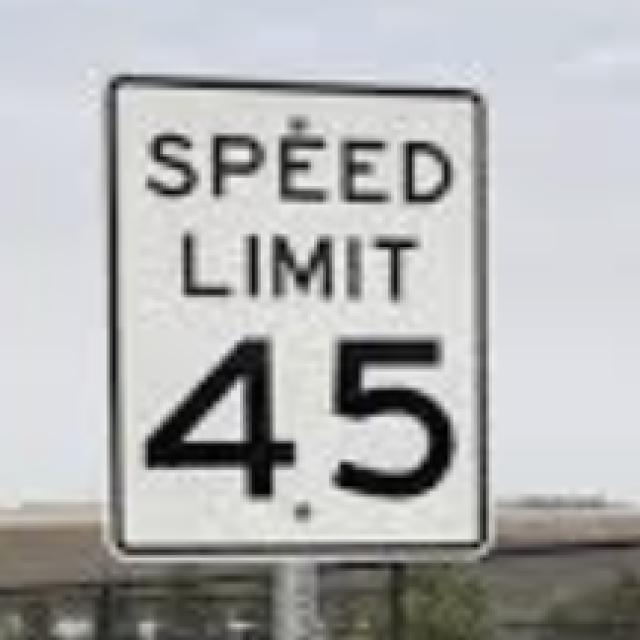speedLimit45: (120, 99, 478, 552)
